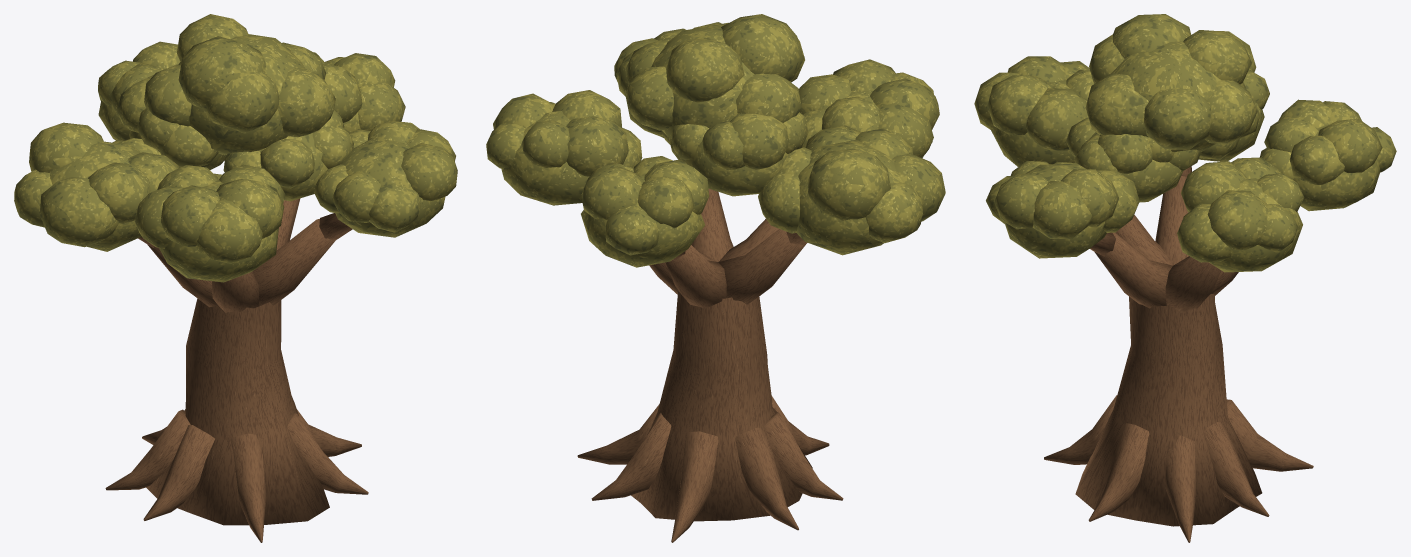
The model's file is ev_old_tree.glb.
The picture shows the model from 3 angles, left to right: view 1: azimuth 30°, elevation 25°; view 2: azimuth 150°, elevation 25°; view 3: azimuth 270°, elevation 25°; orthographic projection. The views are drawn at different scales.
Visible parts, largest first — view 1: ev_old_tree_crown, ev_old_tree_trunk_roots; view 2: ev_old_tree_crown, ev_old_tree_trunk_roots; view 3: ev_old_tree_crown, ev_old_tree_trunk_roots.
Part boxes in pixels (x1=…): ev_old_tree_crown: x1=14, y1=14, x2=457, y2=282; ev_old_tree_trunk_roots: x1=105, y1=198, x2=368, y2=542; ev_old_tree_crown: x1=486, y1=14, x2=945, y2=267; ev_old_tree_trunk_roots: x1=577, y1=189, x2=843, y2=542; ev_old_tree_crown: x1=974, y1=14, x2=1396, y2=272; ev_old_tree_trunk_roots: x1=1044, y1=166, x2=1313, y2=542.
Size of what is drawn, in the model's own units: 6.37 by 7.26 by 6.04.
2 materials, 2 textured.
